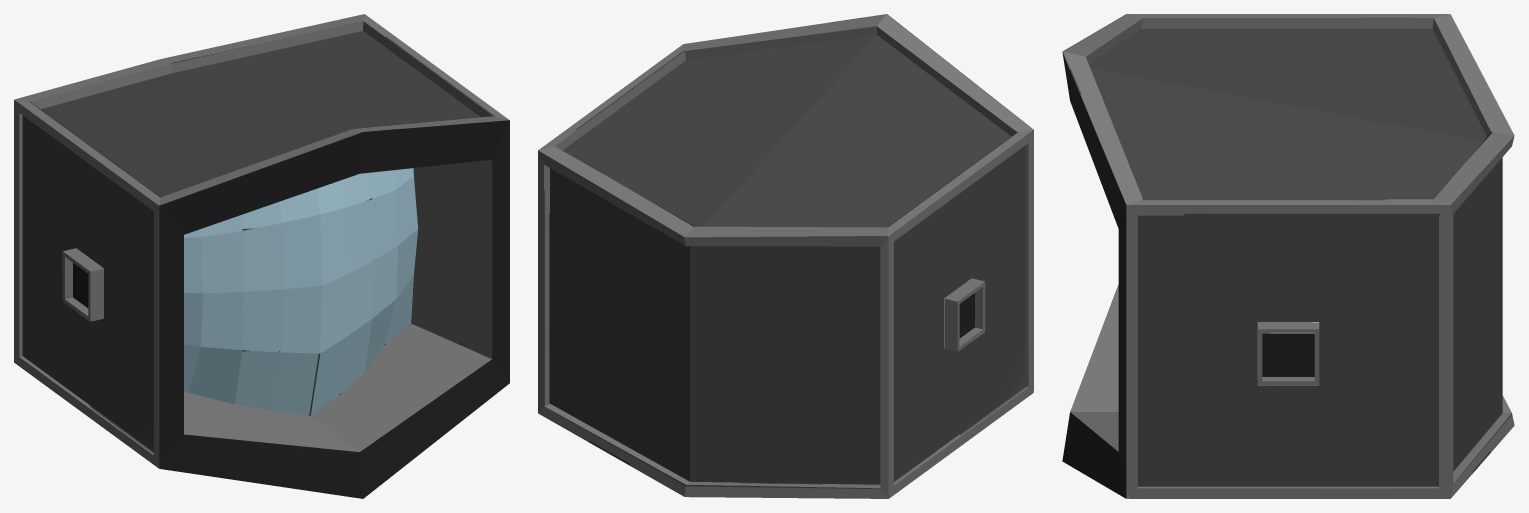
File: HeadLight.fbx
The picture shows the model from 3 angles, left to right: view 1: azimuth 30°, elevation 25°; view 2: azimuth 150°, elevation 25°; view 3: azimuth 270°, elevation 25°; orthographic projection. The views are drawn at different scales.
Visible parts, largest first — view 1: Model; view 2: Model; view 3: Model.
Boxes of the visible parts, box(x1,y1,x2,y2) form: Model: box(14, 14, 509, 498); Model: box(538, 14, 1033, 498); Model: box(1062, 14, 1514, 498).
Bounding box in the file's own units: 2.11 × 2 × 2.
